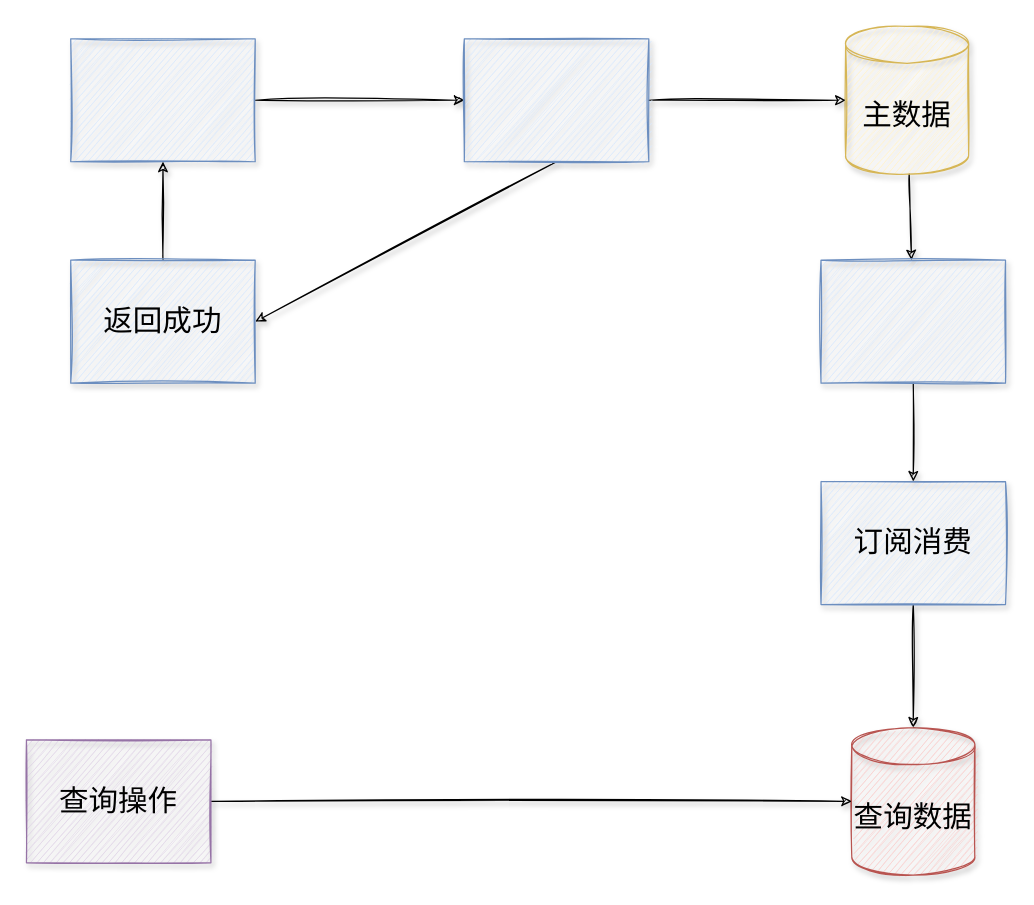
Some shapes in this 1034 by 905 pixel diagram are drawn without their labels. The shapes that lost their labels are listed below. From the top down, each one's centre as x and y in pixels, then its label:
point (164, 101): 写操作
point (557, 101): 更新主数据
point (914, 323): 监听binlog
